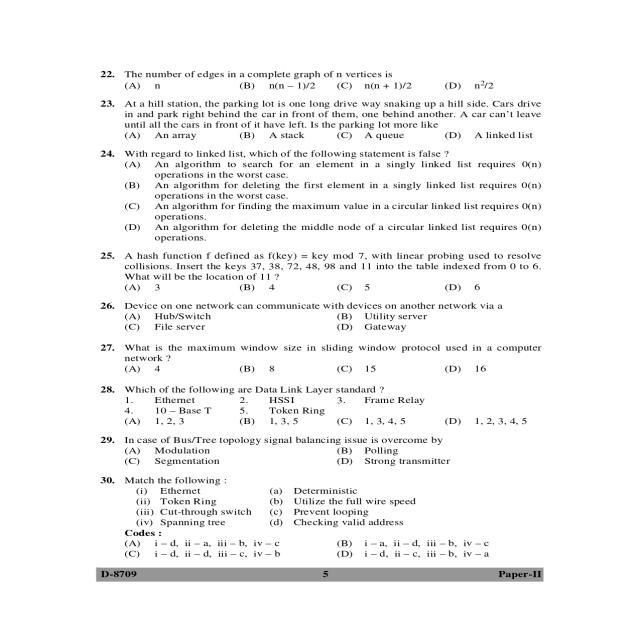Answer_Block: (92, 160, 547, 242), (94, 529, 548, 562), (94, 312, 548, 336), (95, 447, 549, 467), (93, 362, 550, 377), (92, 129, 548, 142), (94, 417, 548, 430), (93, 80, 549, 92), (93, 282, 546, 292)
Question_Answer_Block: (93, 146, 548, 242), (95, 473, 550, 561), (93, 246, 548, 294), (93, 383, 550, 430), (94, 98, 548, 142), (94, 298, 548, 336), (94, 340, 548, 377), (94, 434, 548, 467), (93, 62, 550, 92)
Question_Block: (95, 473, 548, 529), (93, 246, 548, 282), (93, 383, 549, 416), (93, 97, 547, 130), (95, 340, 550, 362), (95, 62, 550, 80), (95, 299, 548, 312), (94, 147, 546, 160), (95, 434, 548, 446)
Question_Paper_Area: (94, 62, 549, 560)
